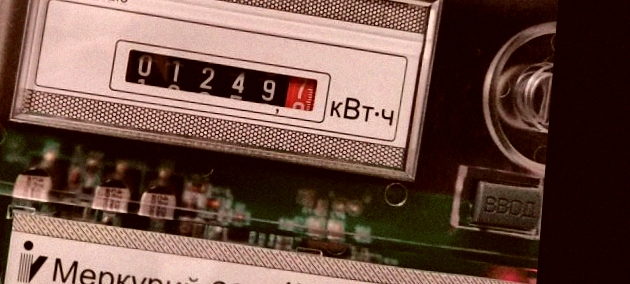0: (135, 50, 154, 78)
1: (167, 56, 183, 83)
2: (197, 64, 216, 91)
4: (230, 68, 247, 94)
7: (293, 74, 310, 101)
9: (258, 75, 277, 102)
screen: (106, 36, 335, 127)
